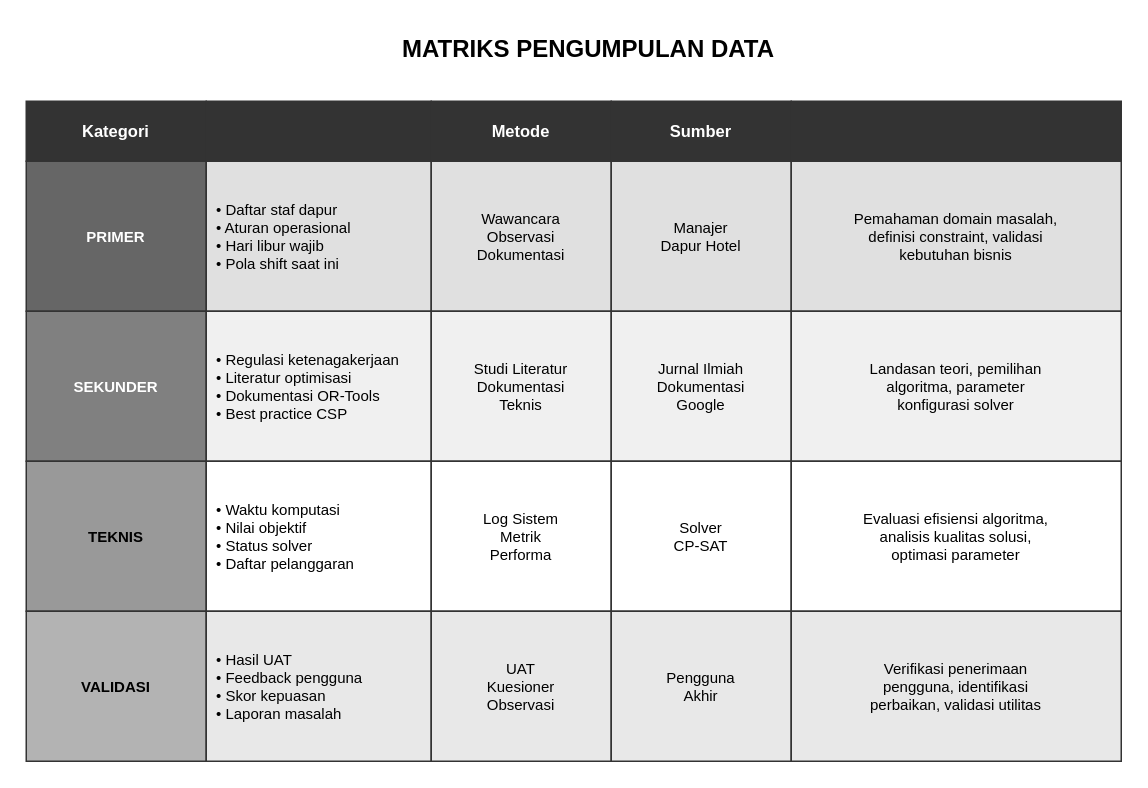
This 1148x788 diagram has some shape labels left out. Here are the shapes that lost their labels. From the top down, the centre of each, then its label:
At point (318, 130): "Tipe Data".
At point (955, 130): "Tujuan".
